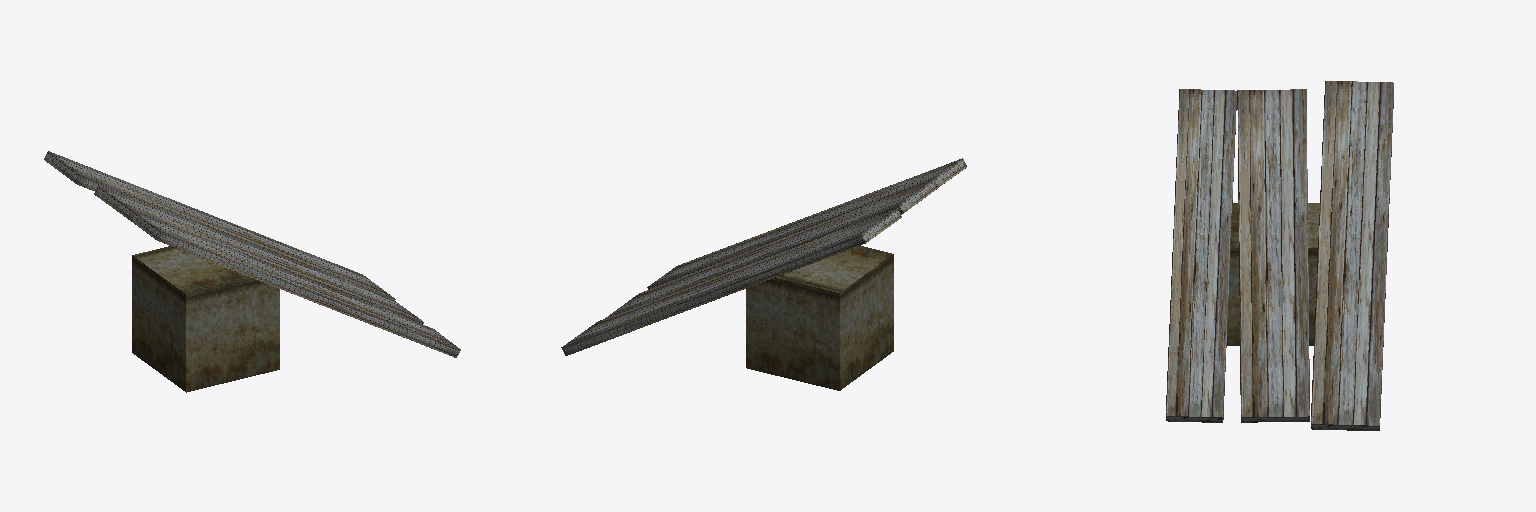
3 views of the same model, side by side, from view 1: azimuth 30°, elevation 25°; view 2: azimuth 150°, elevation 25°; view 3: azimuth 270°, elevation 25° (orthographic).
Size of the model in its own units: 5.03 by 3.1 by 3.18.
Materials: 2 (2 with a texture image).